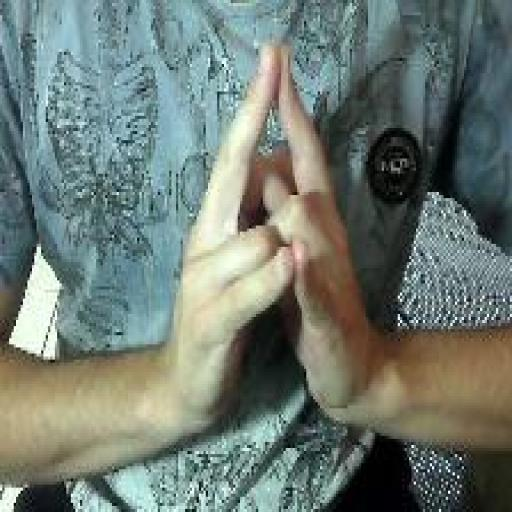Tori -bird-: (161, 29, 378, 440)
